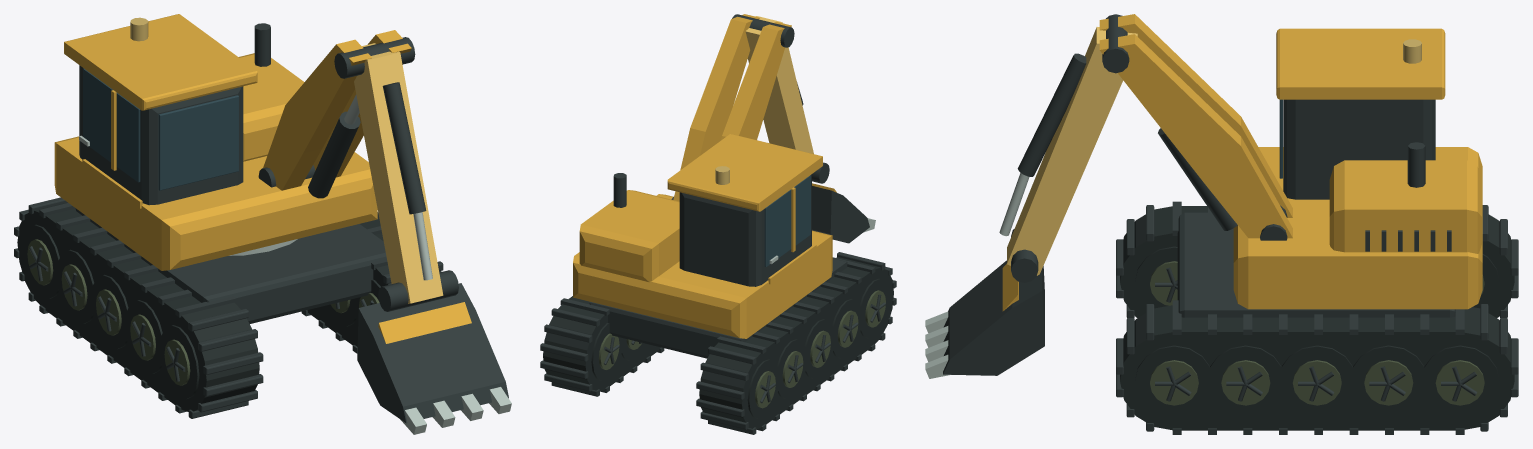
The model's file is excavator.glb.
The picture shows the model from 3 angles, left to right: view 1: azimuth 30°, elevation 25°; view 2: azimuth 150°, elevation 25°; view 3: azimuth 270°, elevation 25°; orthographic projection. The views are drawn at different scales.
Visible parts, largest first — view 1: upper_body_yellow, tracks_rubber, undercarriage_dark, bucket_dark, cab_roof_yellow, cab_glazing_glass, stick_yellowLight, boom_yellow, track_links_dark, road_wheels_rubber, cab_dark, hydraulics_dark (+9 smaller); view 2: upper_body_yellow, tracks_rubber, boom_yellow, track_links_dark, cab_dark, counterweight_yellow, cab_roof_yellow, road_wheels_rubber, undercarriage_dark, stick_yellowLight, road_wheels_oliveDark, cab_glazing_glass (+5 smaller); view 3: tracks_rubber, upper_body_yellow, road_wheels_rubber, boom_yellow, counterweight_yellow, cab_roof_yellow, cab_dark, stick_yellowLight, bucket_dark, road_wheels_oliveDark, track_links_dark, undercarriage_dark (+8 smaller).
Boxes of the visible parts, left/top/right/bottom form: upper_body_yellow: left=54, top=136, right=377, bottom=270; tracks_rubber: left=17, top=202, right=441, bottom=411; undercarriage_dark: left=75, top=208, right=386, bottom=323; bucket_dark: left=357, top=283, right=508, bottom=423; cab_roof_yellow: left=64, top=14, right=257, bottom=110; cab_glazing_glass: left=83, top=68, right=238, bottom=190; stick_yellowLight: left=354, top=43, right=443, bottom=303; boom_yellow: left=263, top=30, right=411, bottom=190; track_links_dark: left=14, top=197, right=443, bottom=418; road_wheels_rubber: left=22, top=224, right=380, bottom=399; cab_dark: left=79, top=65, right=243, bottom=205; hydraulics_dark: left=308, top=82, right=426, bottom=214; upper_body_yellow: left=573, top=194, right=832, bottom=338; tracks_rubber: left=543, top=257, right=893, bottom=429; boom_yellow: left=673, top=14, right=791, bottom=201; track_links_dark: left=540, top=252, right=896, bottom=434; cab_dark: left=679, top=174, right=811, bottom=286; counterweight_yellow: left=579, top=190, right=679, bottom=282; cab_roof_yellow: left=667, top=134, right=822, bottom=211; road_wheels_rubber: left=591, top=278, right=889, bottom=418; undercarriage_dark: left=589, top=258, right=847, bottom=358; stick_yellowLight: left=745, top=16, right=813, bottom=153; road_wheels_oliveDark: left=598, top=290, right=885, bottom=408; cab_glazing_glass: left=764, top=175, right=810, bottom=266; tracks_rubber: left=1120, top=206, right=1514, bottom=430; upper_body_yellow: left=1233, top=147, right=1482, bottom=309; road_wheels_rubber: left=1135, top=246, right=1499, bottom=417; boom_yellow: left=1099, top=14, right=1292, bottom=238; counterweight_yellow: left=1329, top=160, right=1481, bottom=253; cab_roof_yellow: left=1276, top=28, right=1445, bottom=99; cab_dark: left=1283, top=99, right=1435, bottom=199; stick_yellowLight: left=1007, top=27, right=1137, bottom=275; bucket_dark: left=943, top=260, right=1044, bottom=375; road_wheels_oliveDark: left=1150, top=261, right=1484, bottom=405; track_links_dark: left=1116, top=201, right=1518, bottom=434; undercarriage_dark: left=1177, top=212, right=1455, bottom=317.
Size of the model in its own units: 1.27 by 1.62 by 2.4.
